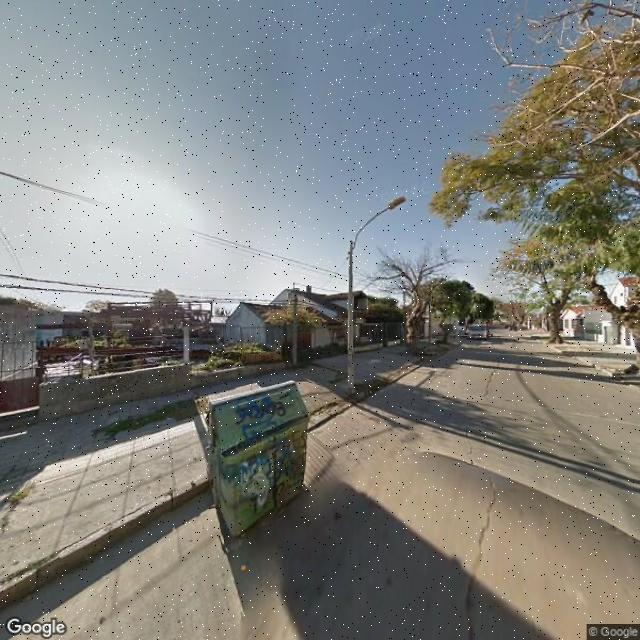garbage container: (189, 373, 327, 552)
